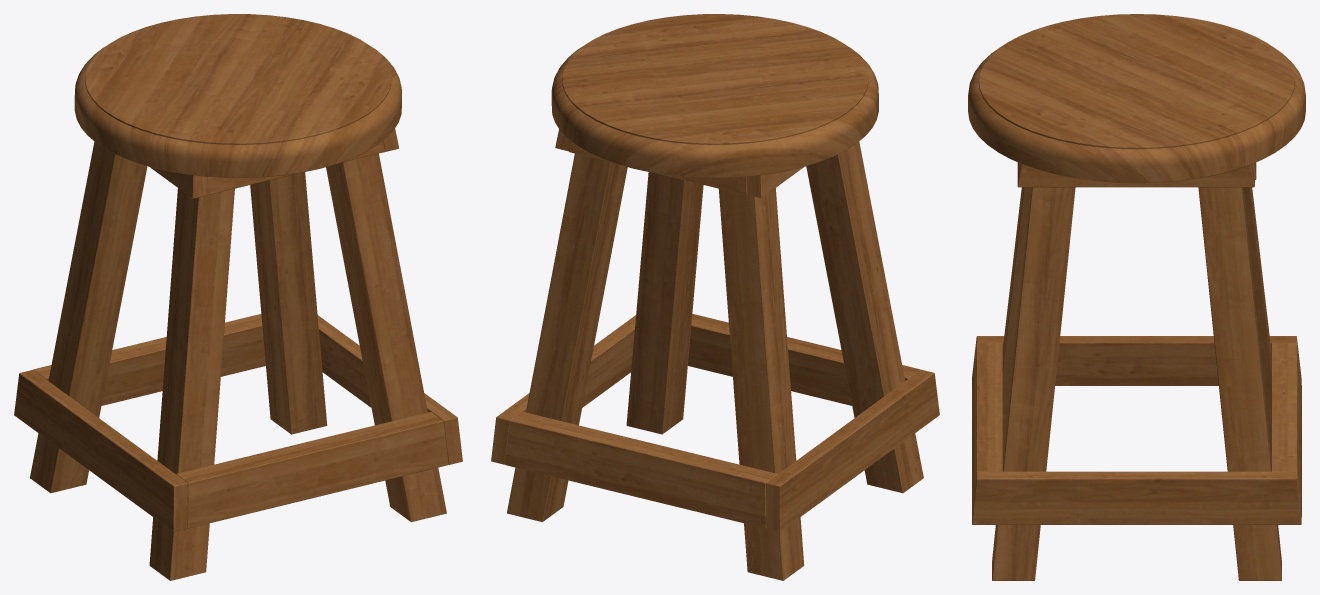
Rendered from chair_32_02.001.fbx.
The picture shows the model from 3 angles, left to right: view 1: azimuth 30°, elevation 25°; view 2: azimuth 150°, elevation 25°; view 3: azimuth 270°, elevation 25°; orthographic projection. The views are drawn at different scales.
Visible parts, largest first — view 1: chair_32_02.001; view 2: chair_32_02.001; view 3: chair_32_02.001.
Boxes of the visible parts, x1,y1,x2,y2 form: chair_32_02.001: [14, 14, 462, 580]; chair_32_02.001: [491, 14, 939, 580]; chair_32_02.001: [968, 14, 1305, 580].
Size of the model in its own units: 32.68 by 45.06 by 32.
1 material, 1 textured.
